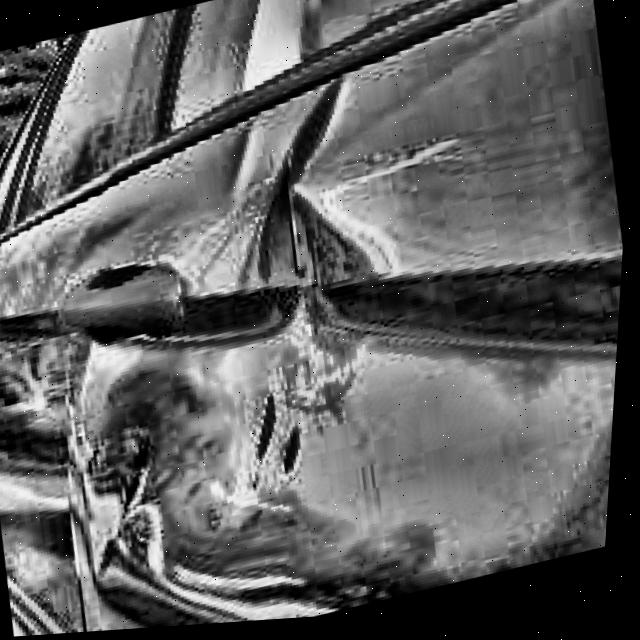door_dent: (221, 179, 412, 409)
